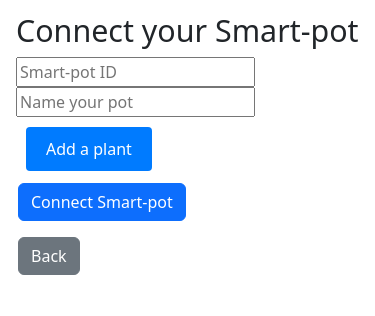
Test case: Connect pot with empty fields
Click the button "Connect Smart-pot".
click(102, 202)  # box top-left (18, 182), bottom-right (186, 220)
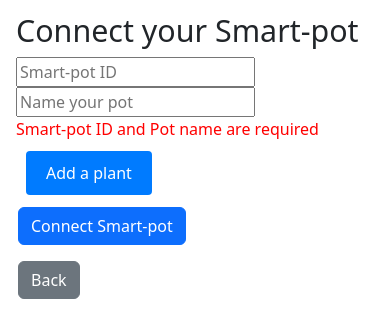
Expected: the text "Smart-pot ID and Pot name are required" is shown, top-left (16, 118), bottom-right (319, 140)
